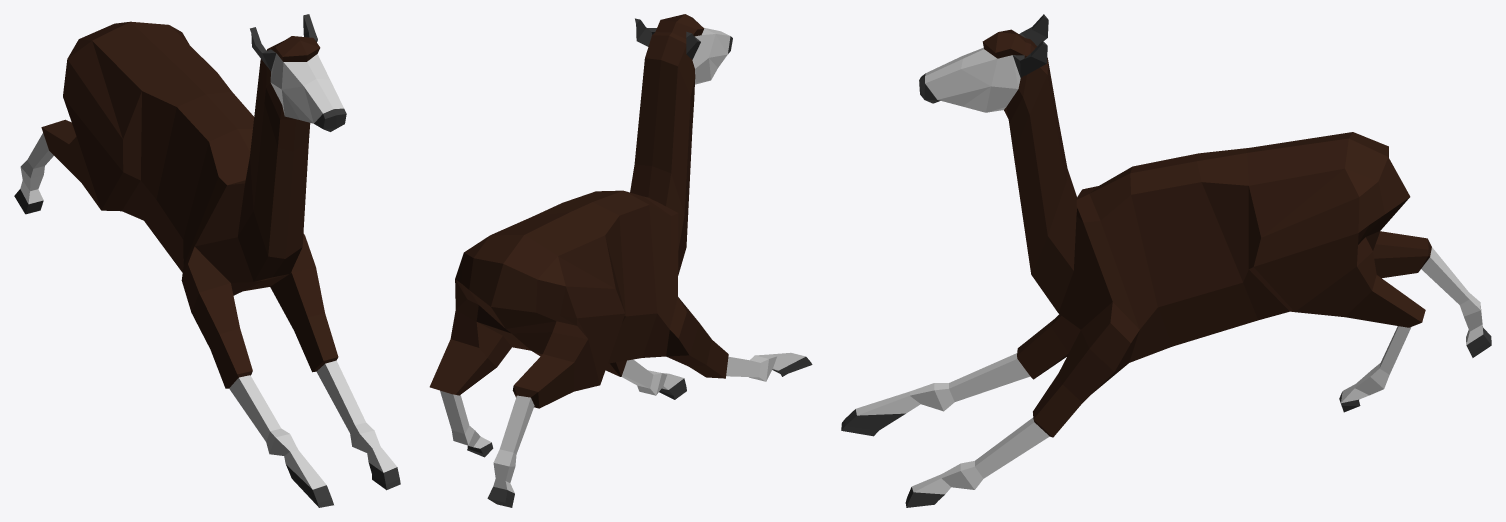
Rendered from Llama__1_000016.obj.
3 views of the same model, side by side, from view 1: azimuth 30°, elevation 25°; view 2: azimuth 150°, elevation 25°; view 3: azimuth 270°, elevation 25° (orthographic). The views are drawn at different scales.
Parts seen in each view (by area): view 1: Llama_Cylinder; view 2: Llama_Cylinder; view 3: Llama_Cylinder.
Boxes of the visible parts, x1,y1,x2,y2 form: Llama_Cylinder: [14, 14, 400, 507]; Llama_Cylinder: [429, 14, 812, 507]; Llama_Cylinder: [841, 14, 1491, 507].
Size of the model in its own units: 1.56 by 5.08 by 6.61.
